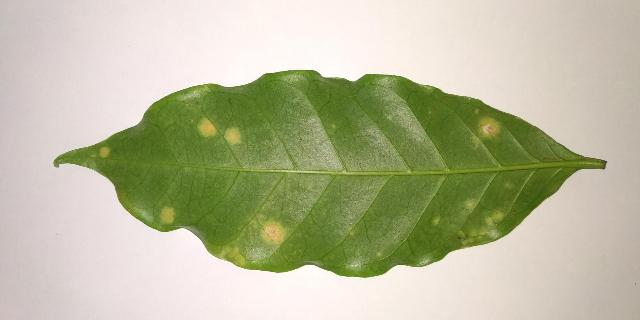miner: (215, 247, 247, 268), (262, 222, 285, 244), (461, 228, 487, 247), (479, 118, 498, 137), (485, 210, 504, 226), (199, 119, 216, 136), (226, 128, 240, 143), (162, 208, 174, 222), (465, 199, 477, 211), (100, 147, 110, 156), (434, 218, 440, 224)
